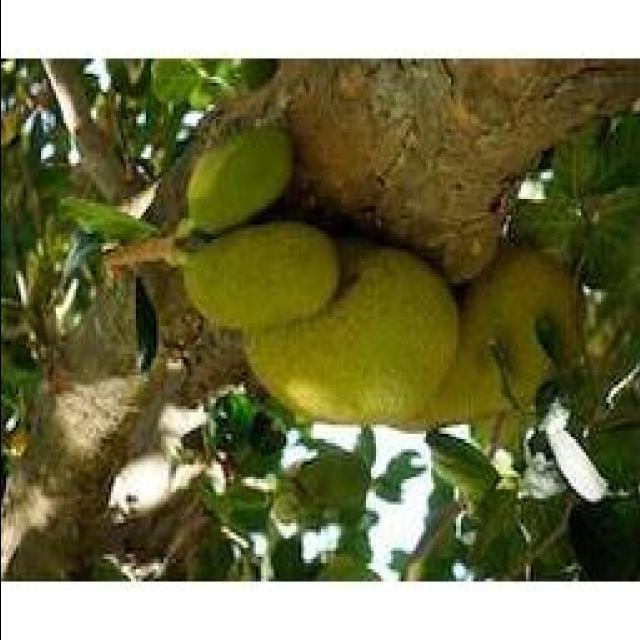Fruit: (237, 7, 640, 262), (185, 200, 485, 452)
